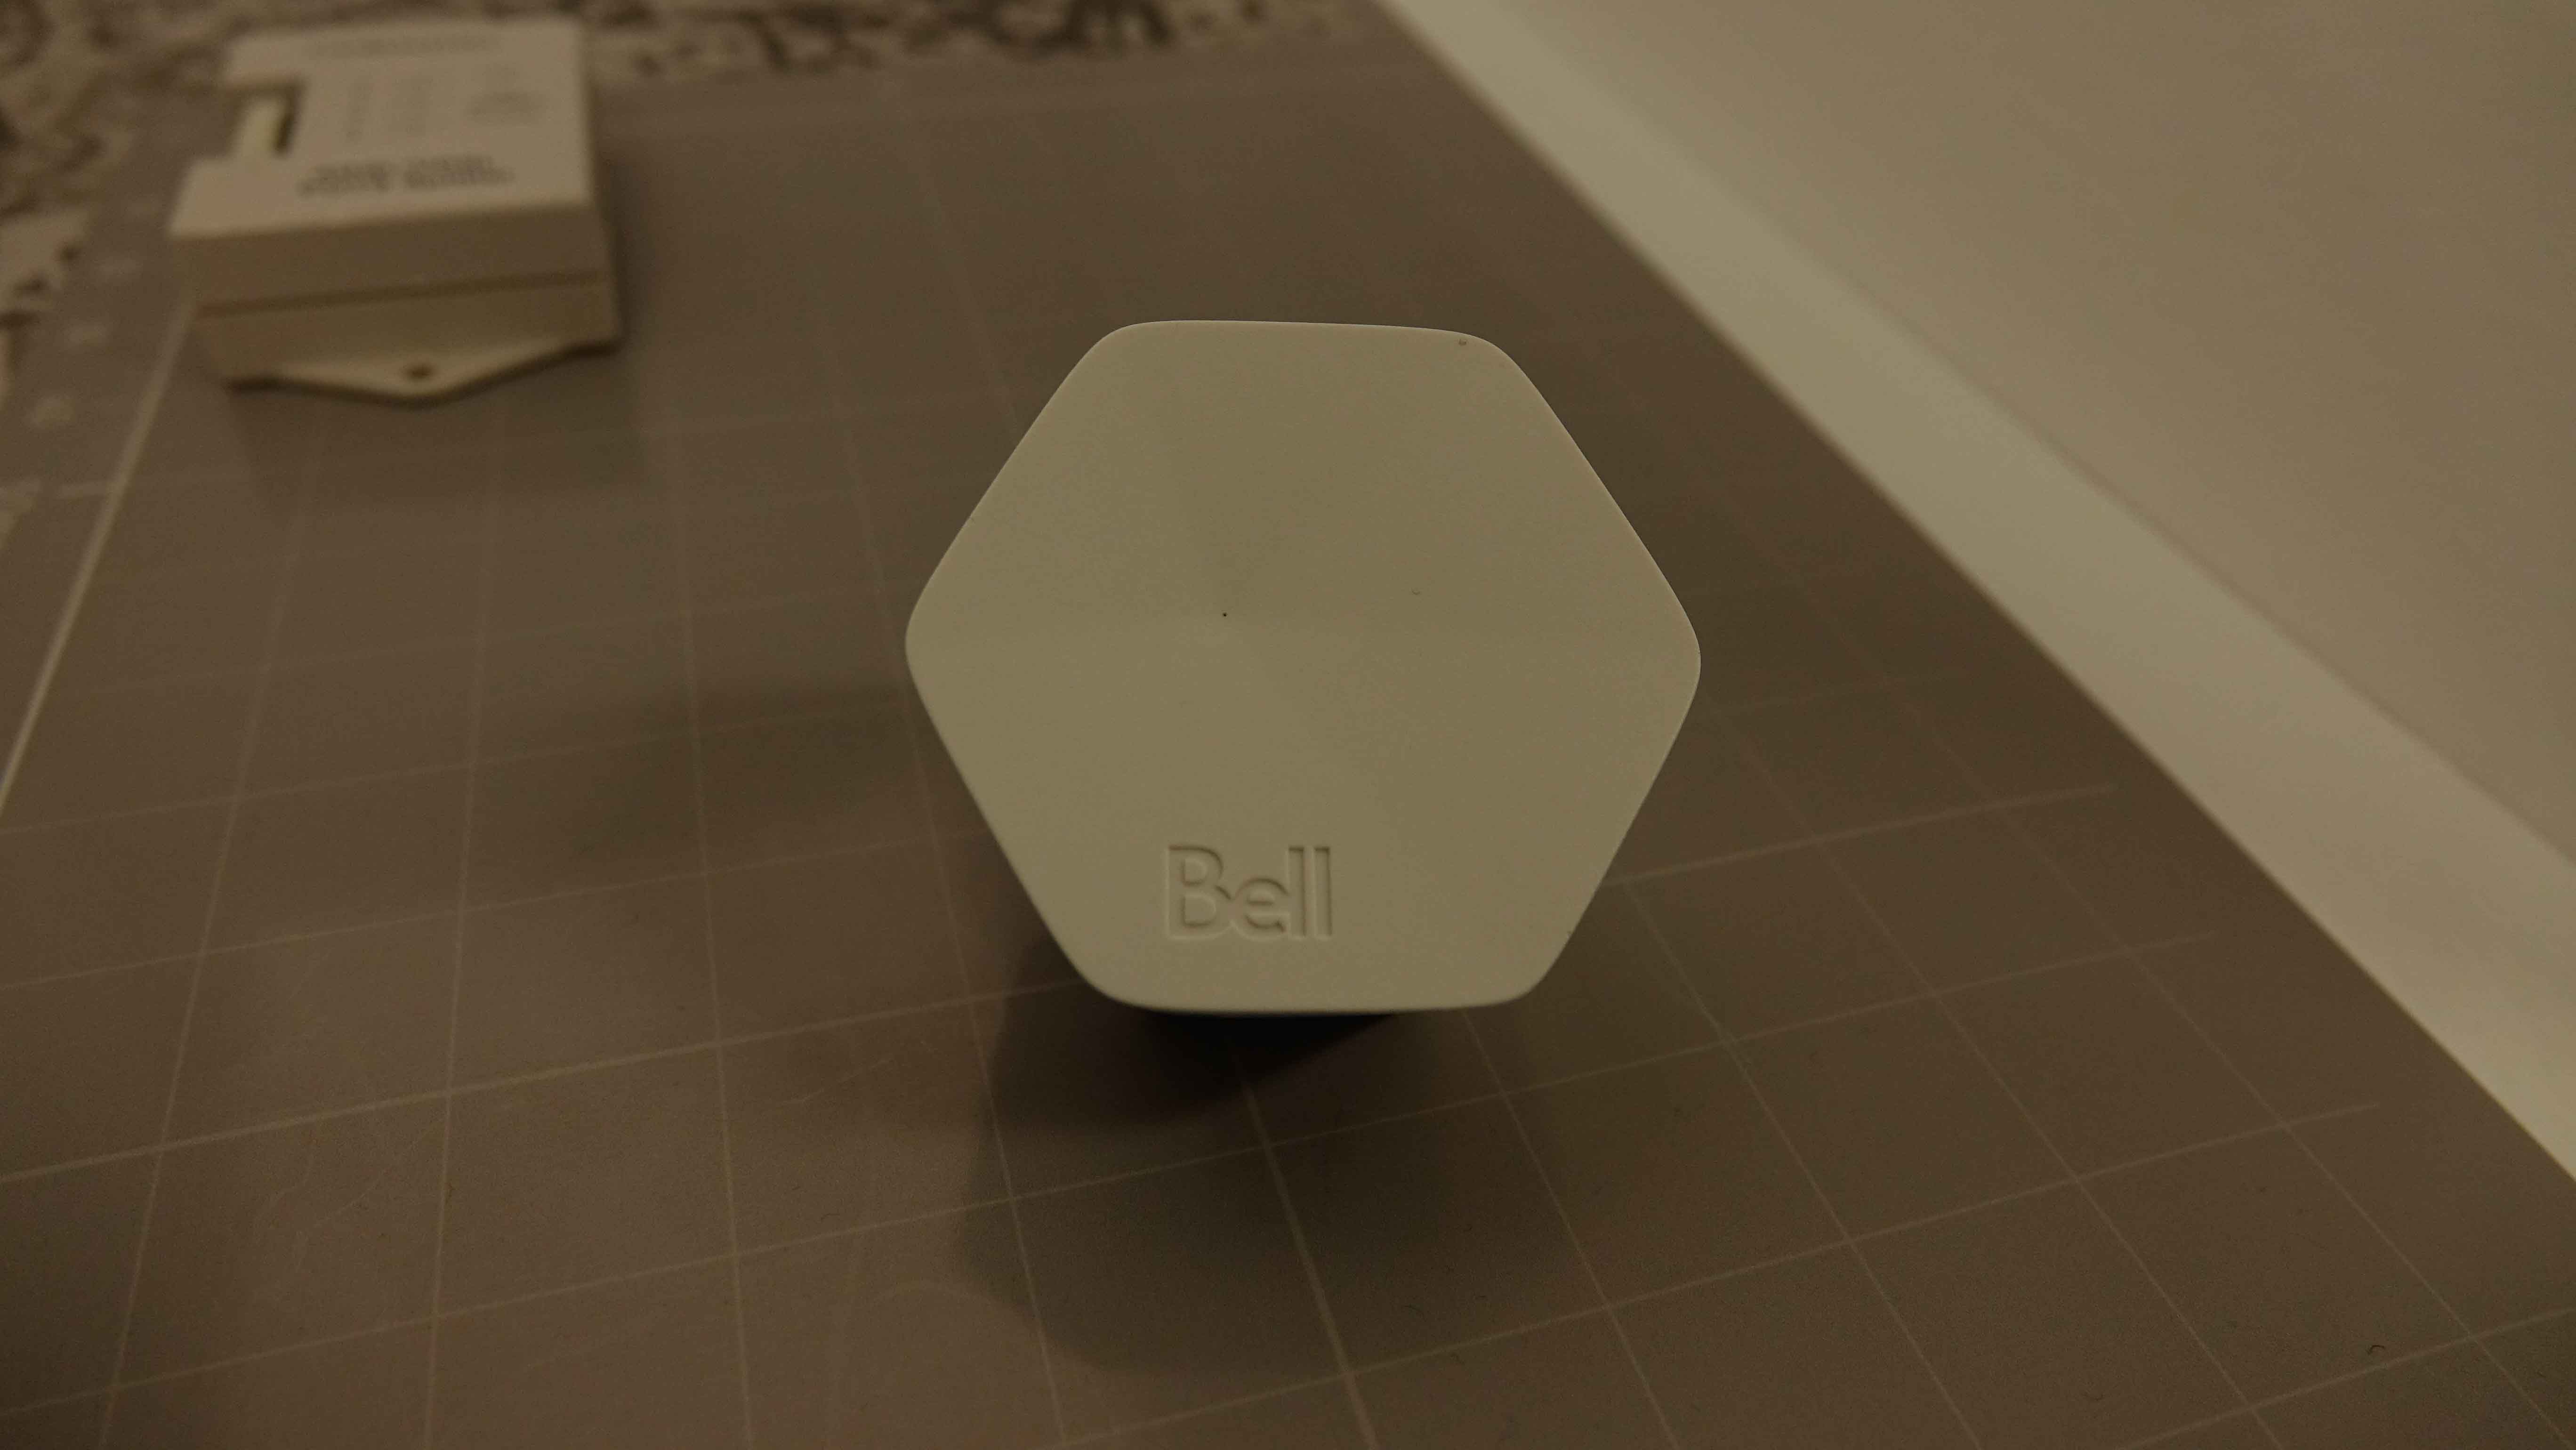pod: (893, 309, 1734, 1045)
